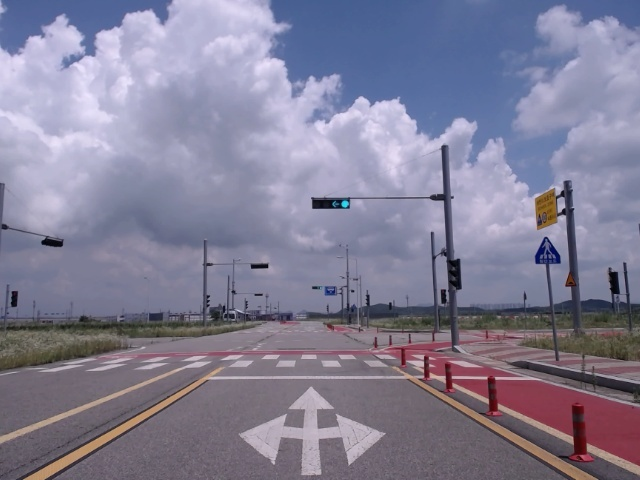all_green_4: (311, 195, 350, 211)
